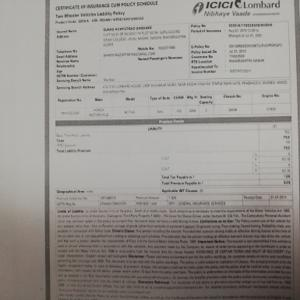image: (191, 1, 284, 18)
table: (55, 117, 294, 208), (53, 79, 291, 115)
text: (56, 208, 292, 295), (57, 23, 185, 81), (55, 1, 161, 23)
